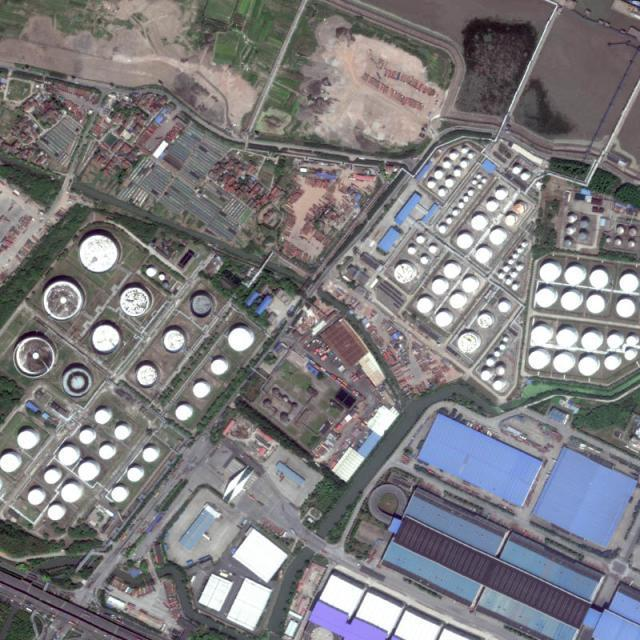vehicle: (202, 534, 212, 541), (290, 528, 297, 537), (87, 582, 94, 590), (171, 469, 178, 475), (162, 479, 168, 486), (69, 621, 77, 626), (25, 602, 33, 607), (257, 501, 264, 506), (250, 496, 257, 501), (122, 534, 127, 541), (115, 619, 123, 623), (82, 614, 90, 618), (130, 524, 134, 531), (178, 461, 183, 466), (154, 493, 159, 498), (26, 608, 32, 612)
